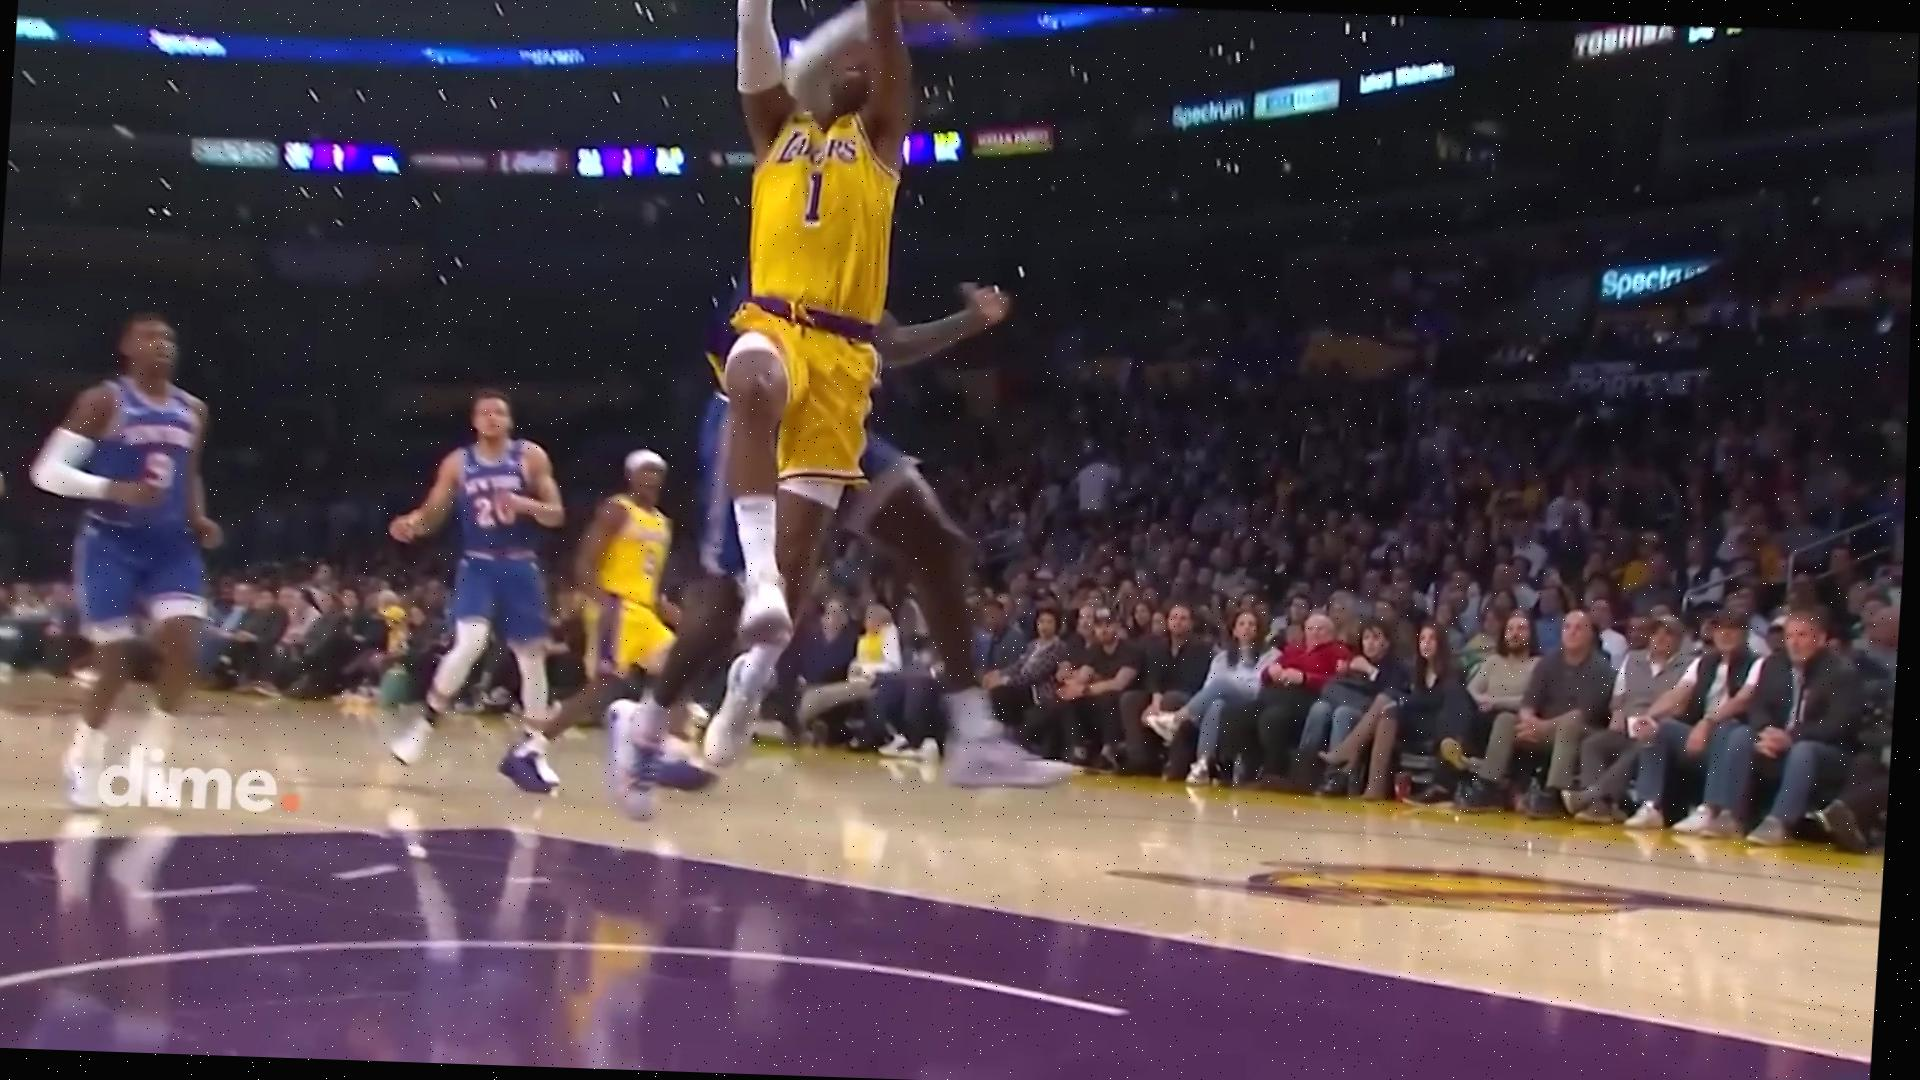foul: (588, 0, 1113, 884)
